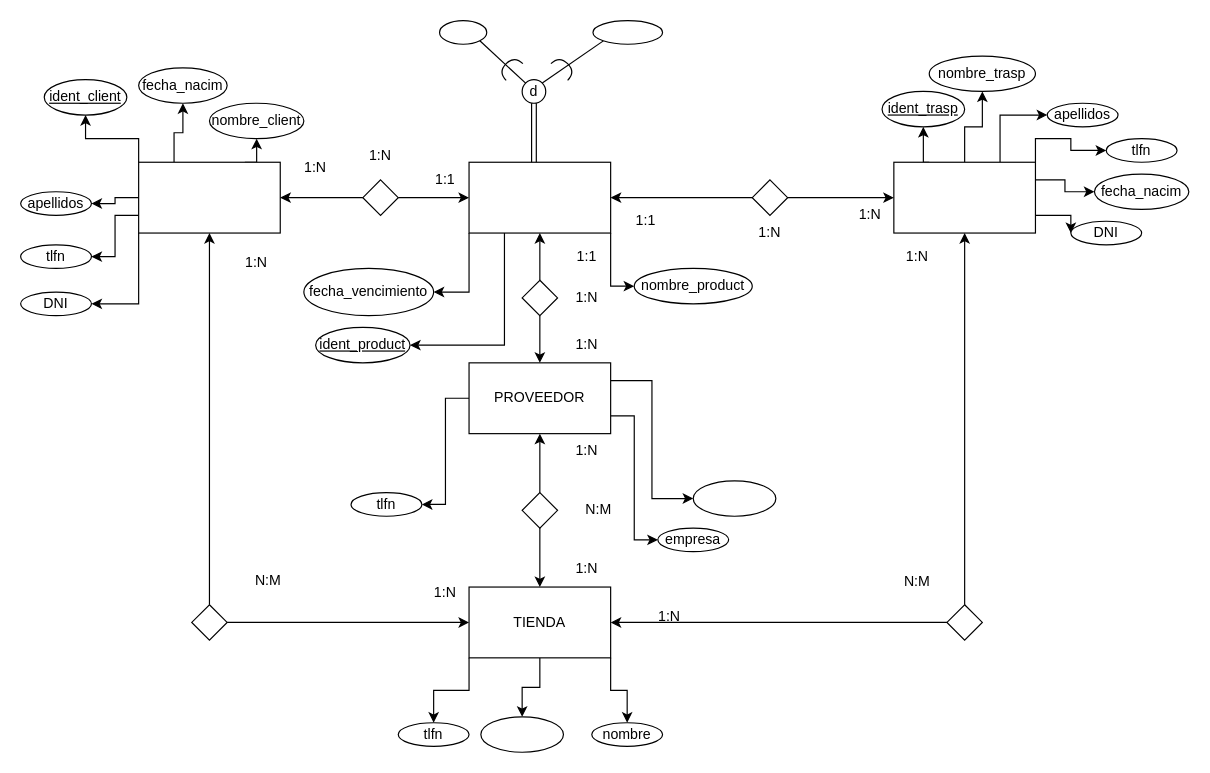
Some shapes in this 1210 by 773 pixel diagram are drawn without their labels. Here are the shapes that lost their labels. From the top down, the box of each, then its label:
(438, 19, 487, 44): fruta
(592, 19, 663, 44): verdura
(137, 161, 280, 233): CLIENTE
(468, 161, 611, 233): PRODUCTOS
(893, 161, 1035, 233): TRASPORTISTA
(692, 480, 776, 516): ident_prov
(480, 716, 563, 752): ident_tiend
